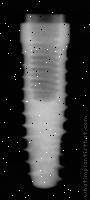Biomet 3i: (20, 14, 70, 190)
